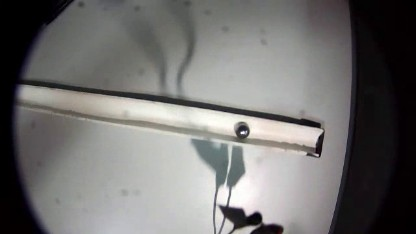gangzhu: (232, 120, 251, 140)
